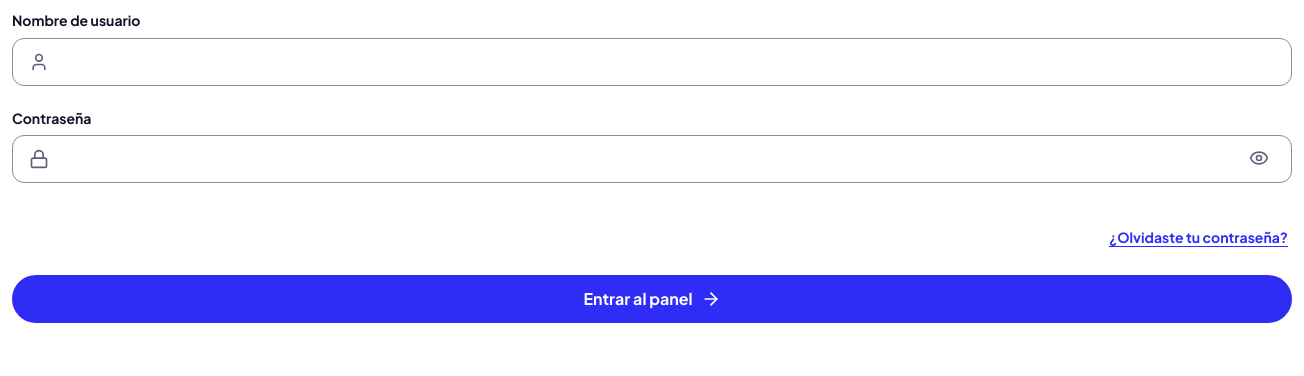
LoginForm: validación › con los campos vacíos muestra los dos errores junto a cada campo, enfoca el primero y no envía (CA-002)
The image size is (1304, 376).
What coordinates should you click on to do the following:
click the button with test id "login-submit"
I would click on:
 (652, 299)
Its box is [12,275,1292,323].
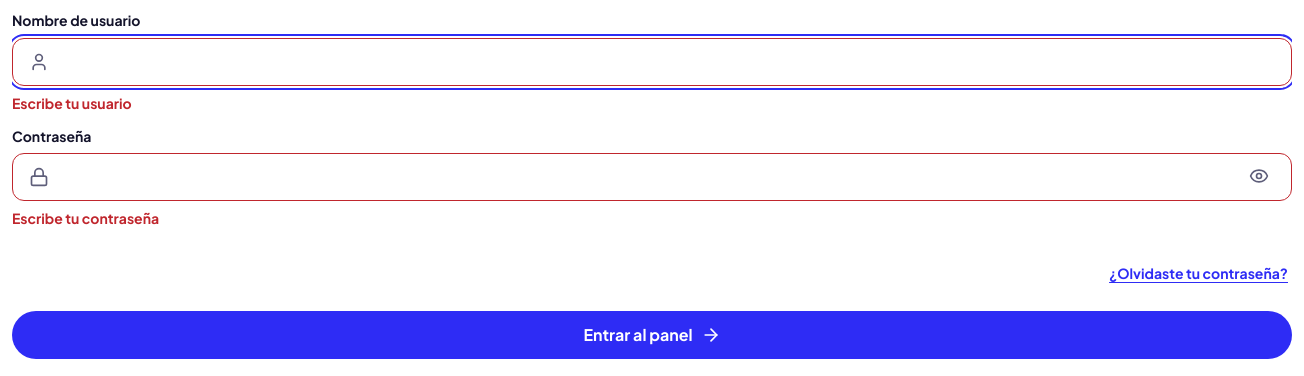
Expected: the text with test id "login-username-error" reads "Escribe tu usuario", [12,94,132,112]
Expected: the text with test id "login-password-error" reads "Escribe tu contraseña", [12,209,159,227]
